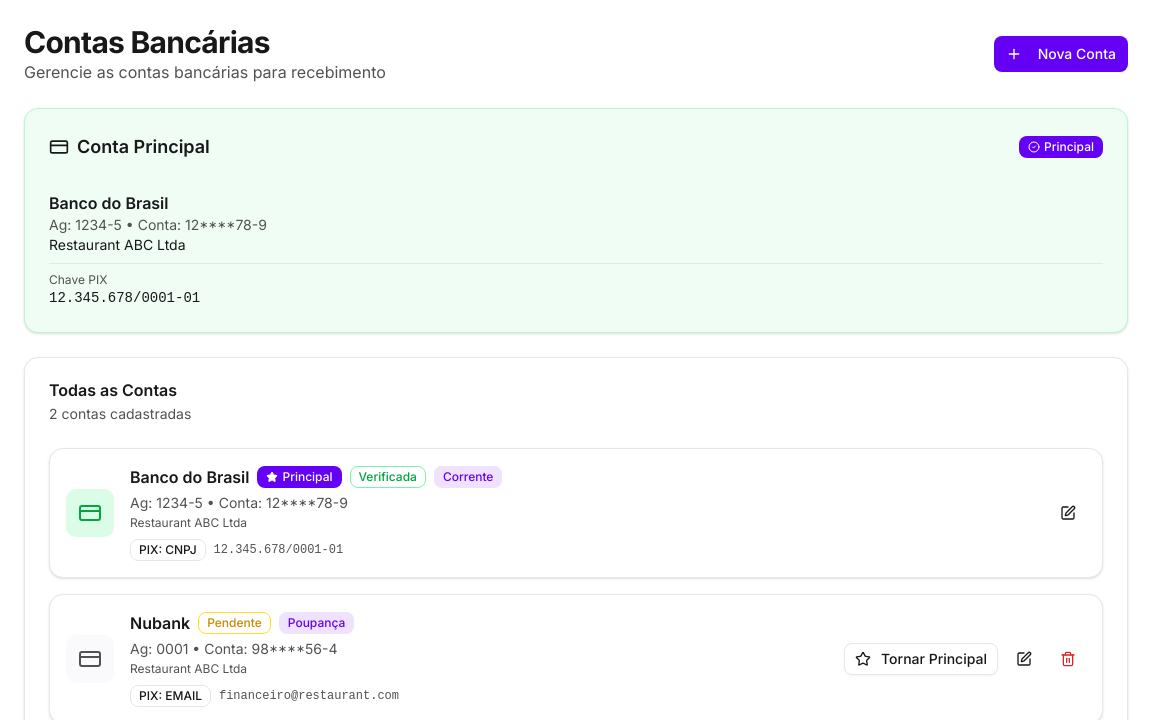
ContasBancariasPage › opens form dialog when clicking add button
Click the button "Nova Conta": [1061, 54] box [994, 36, 1128, 72]
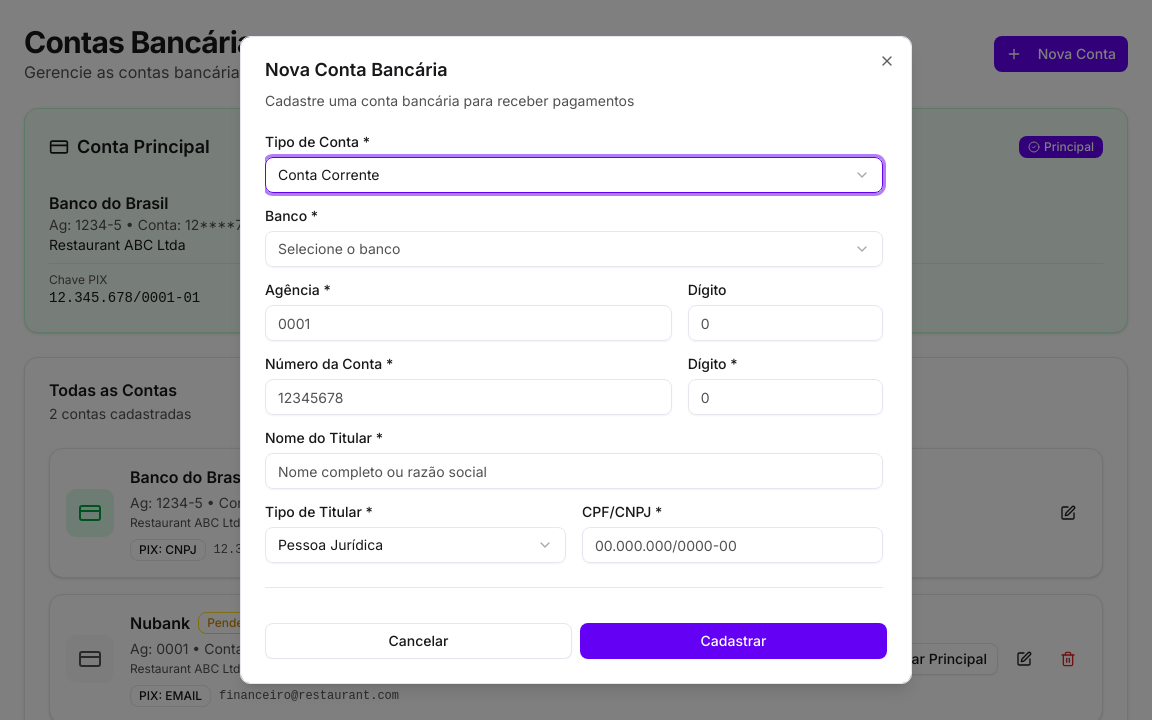
Check: the heading "Nova Conta Bancária" is shown, box [265, 59, 448, 80]
